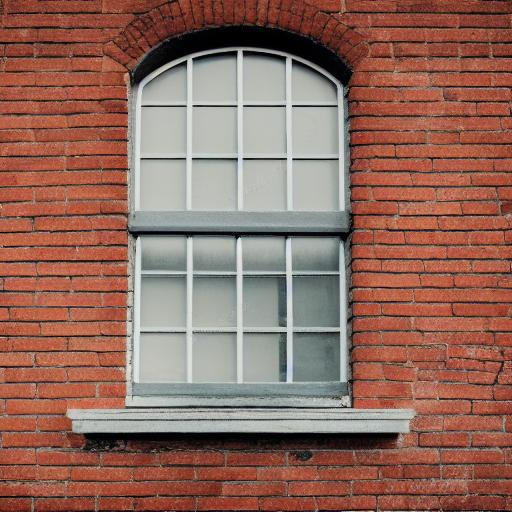Window: (65, 2, 419, 438)
